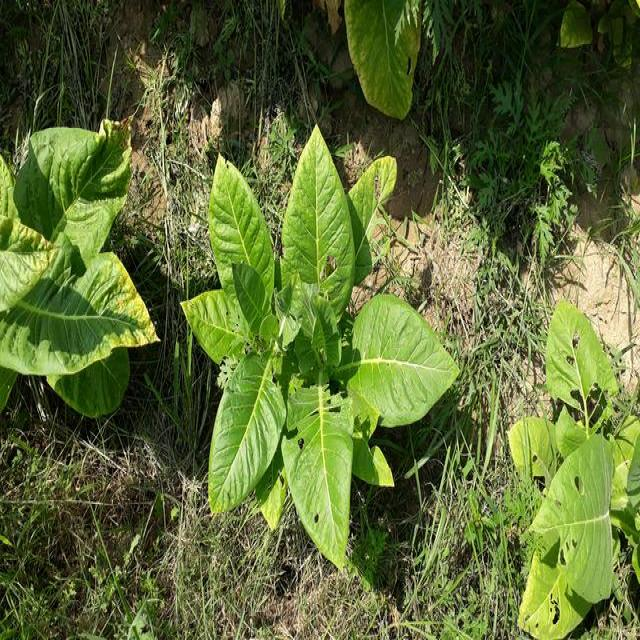crop: (180, 127, 460, 564), (0, 122, 160, 430), (512, 288, 640, 636), (344, 0, 435, 117)
